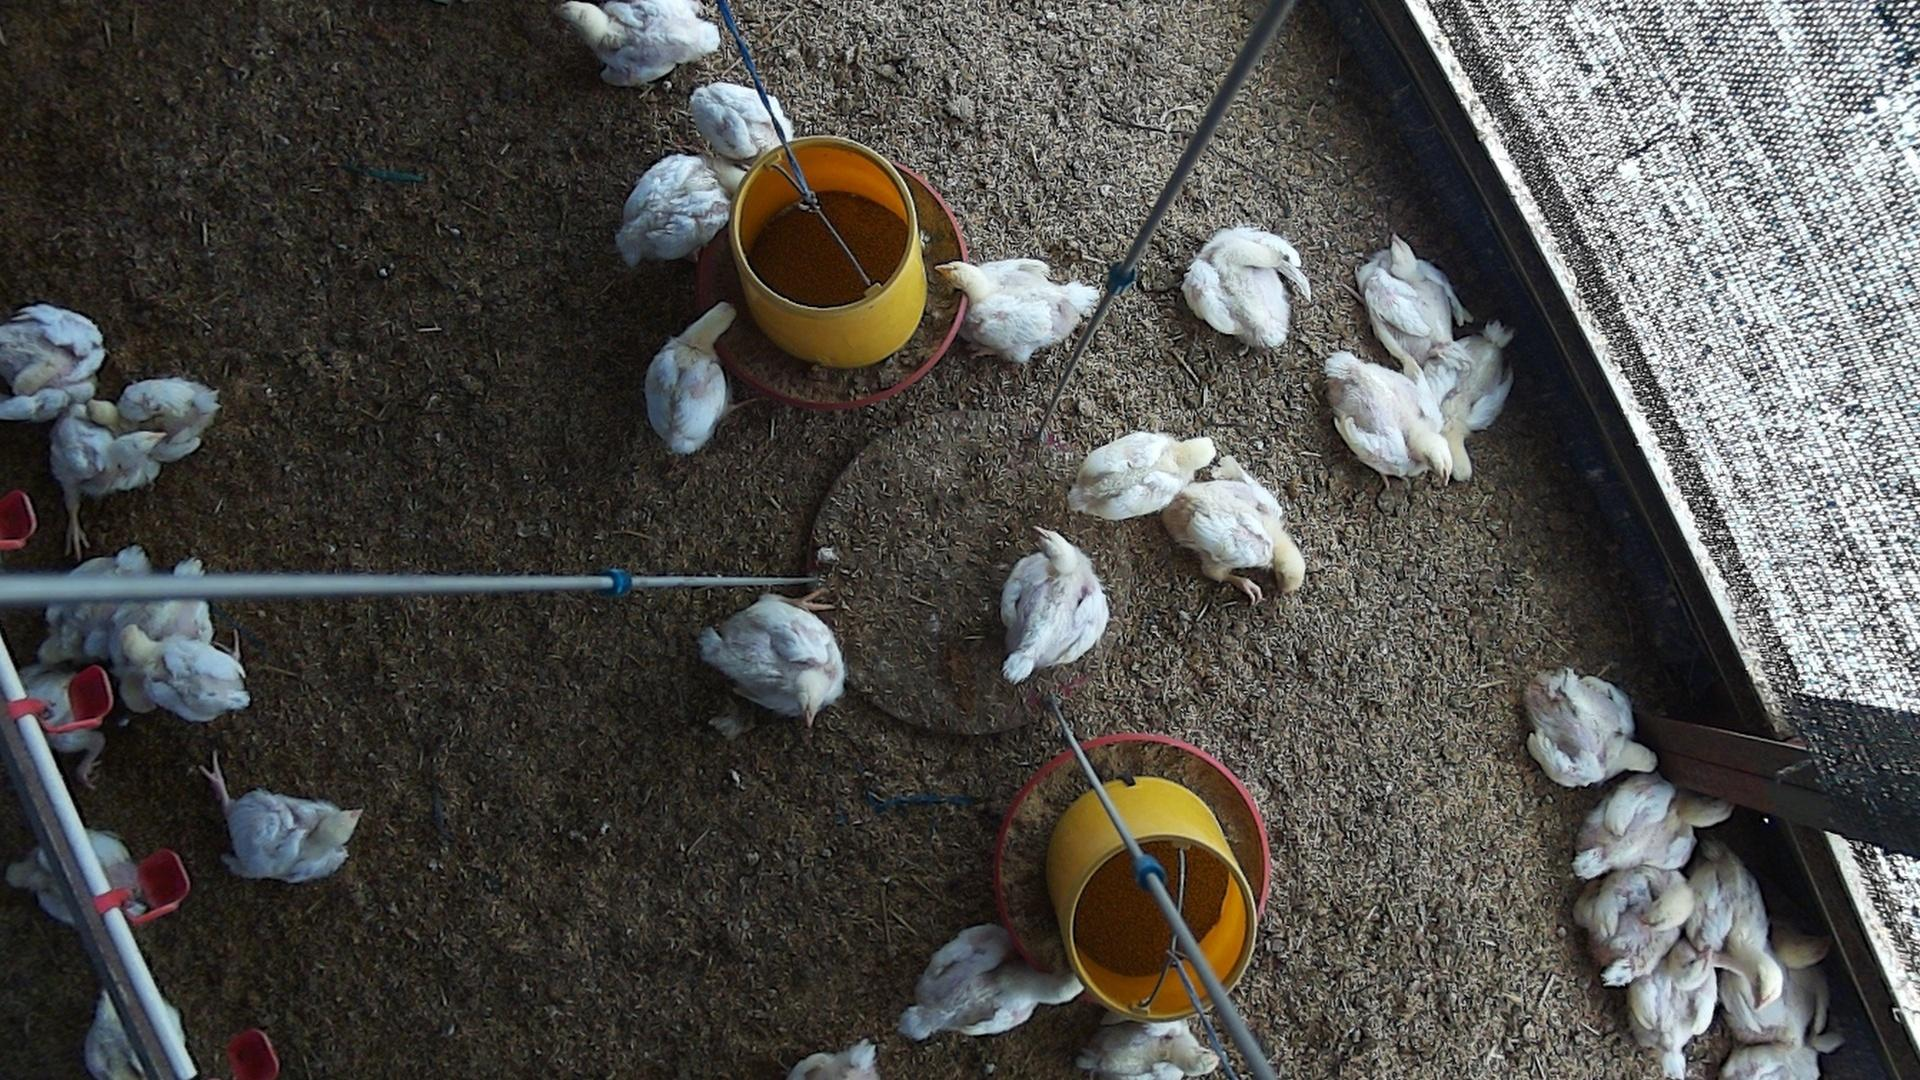ayam_broiler: (1164, 455, 1305, 608), (199, 750, 363, 881), (899, 922, 1085, 1036), (698, 591, 845, 719), (50, 402, 167, 562), (935, 257, 1102, 364), (1324, 352, 1461, 479), (1687, 835, 1783, 1013), (1573, 777, 1733, 882), (1000, 529, 1110, 680), (1526, 666, 1656, 786), (1183, 225, 1307, 348), (1721, 918, 1836, 1044), (618, 154, 744, 265), (642, 301, 733, 452), (1575, 865, 1688, 986), (556, 0, 721, 83), (1360, 237, 1462, 368), (119, 624, 251, 723), (37, 546, 149, 662), (0, 303, 107, 422), (1073, 431, 1216, 520), (1629, 947, 1717, 1080), (87, 377, 219, 462), (1425, 322, 1511, 451), (1080, 1018, 1222, 1080), (690, 80, 785, 157)
